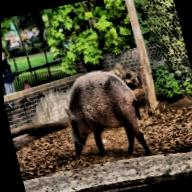boar: (41, 55, 167, 164)
